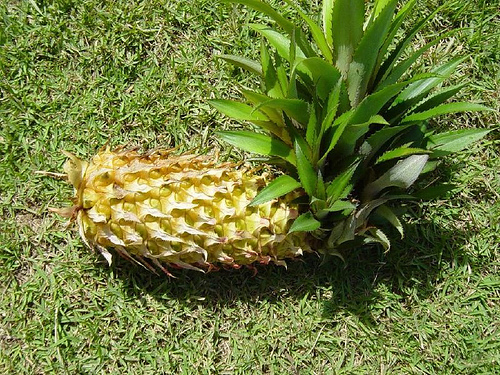pineapple: (58, 0, 498, 282)
